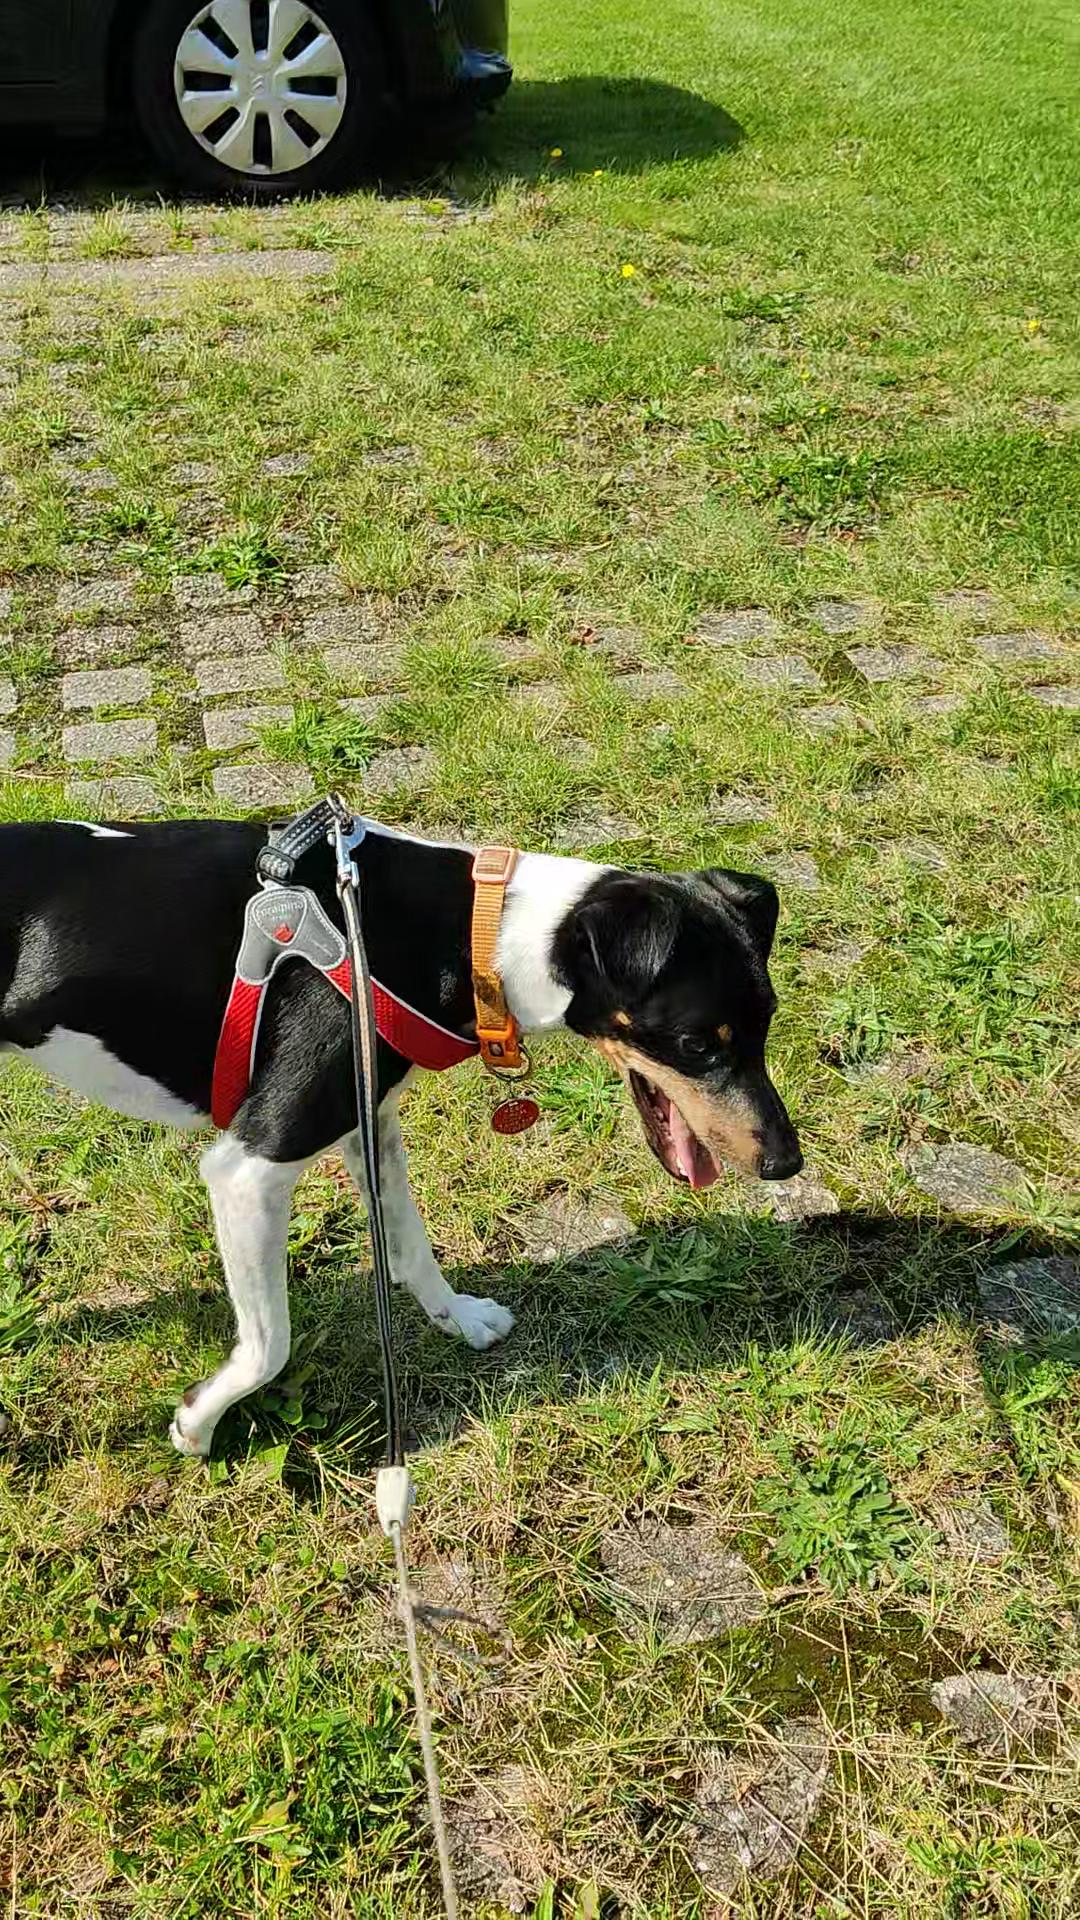Dog: (0, 782, 844, 1480)
